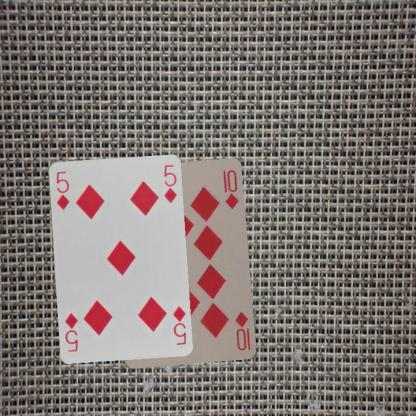10d: (233, 309, 252, 353)
5d: (53, 168, 71, 211), (170, 303, 187, 346)
